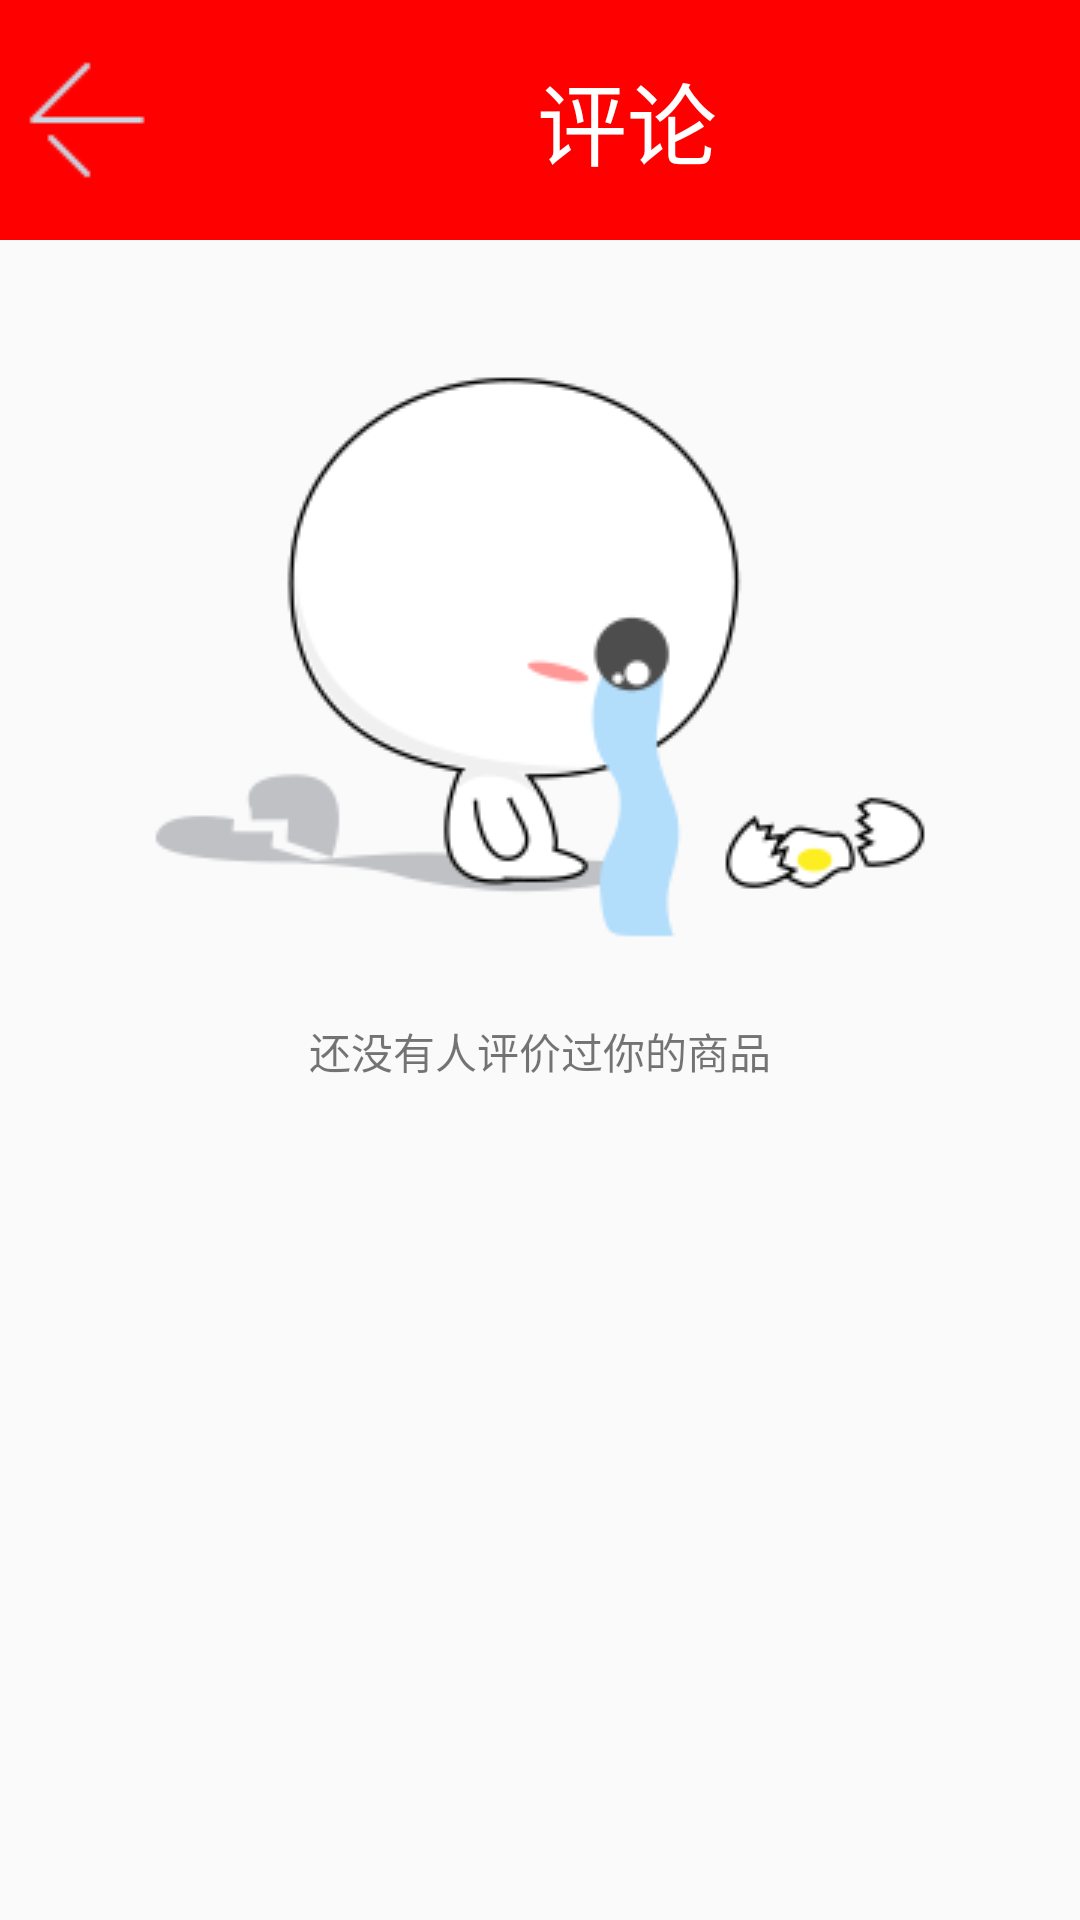

Point at icon controls on the screen. Image size 1080 x 1920, points as [x,y].
back on: [87,120]
